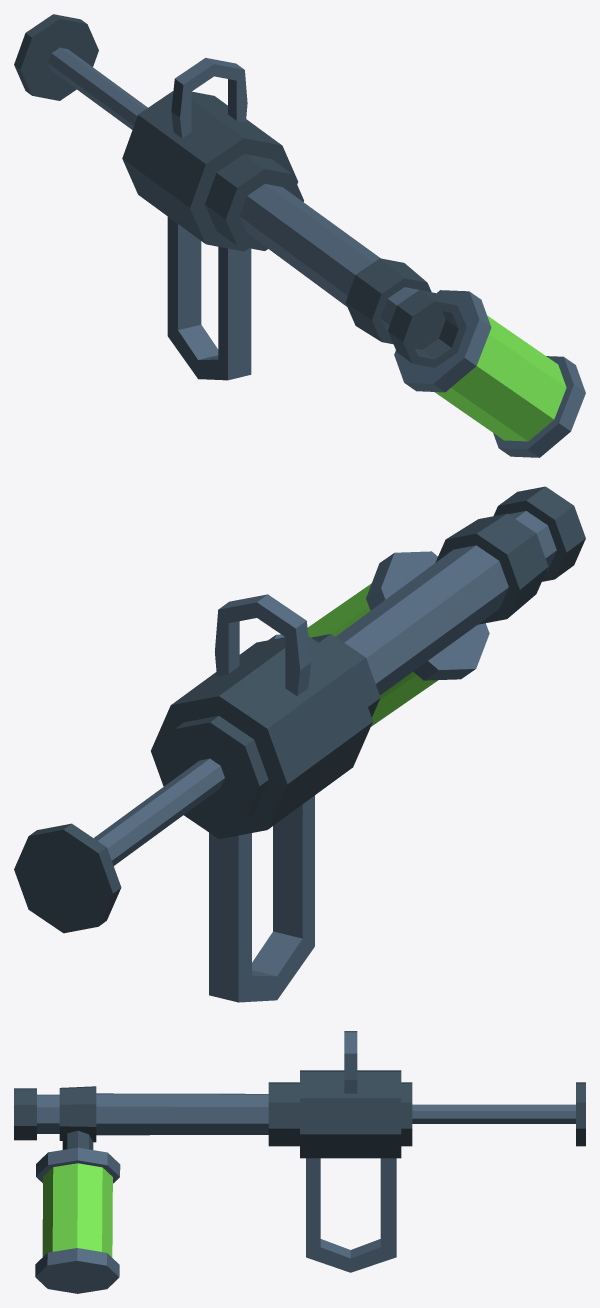
The model's file is Inject.fbx.
The picture shows the model from 3 angles, top to bottom: view 1: azimuth 30°, elevation 25°; view 2: azimuth 150°, elevation 25°; view 3: azimuth 270°, elevation 25°; orthographic projection. The views are drawn at different scales.
Visible parts, largest first — view 1: Cube.001, Cube.005; view 2: Cube.001, Cube.005; view 3: Cube.001, Cube.005.
Boxes of the visible parts, bbox=[...] form: Cube.001: bbox=[14, 14, 466, 380]; Cube.005: bbox=[394, 290, 585, 457]; Cube.001: bbox=[14, 486, 585, 1002]; Cube.005: bbox=[268, 551, 489, 726]; Cube.001: bbox=[14, 1031, 585, 1272]; Cube.005: bbox=[35, 1147, 120, 1293].
Size of the model in its own units: 0.4687 by 0.5953 by 1.31.
